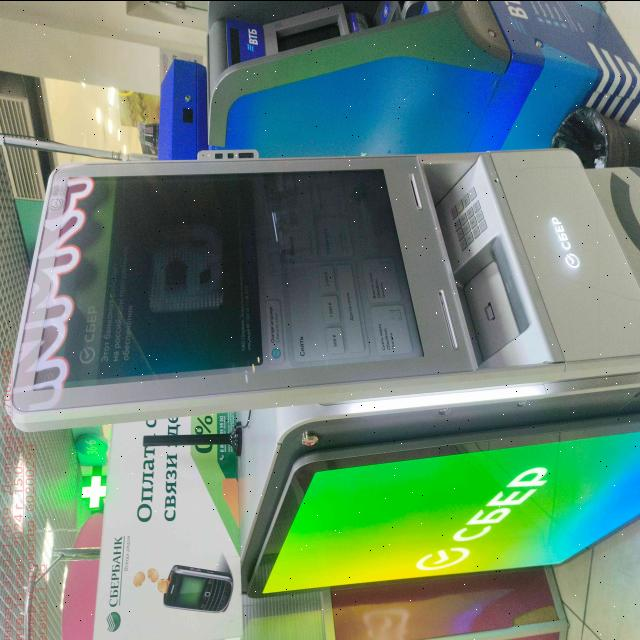bank: (9, 146, 640, 594)
